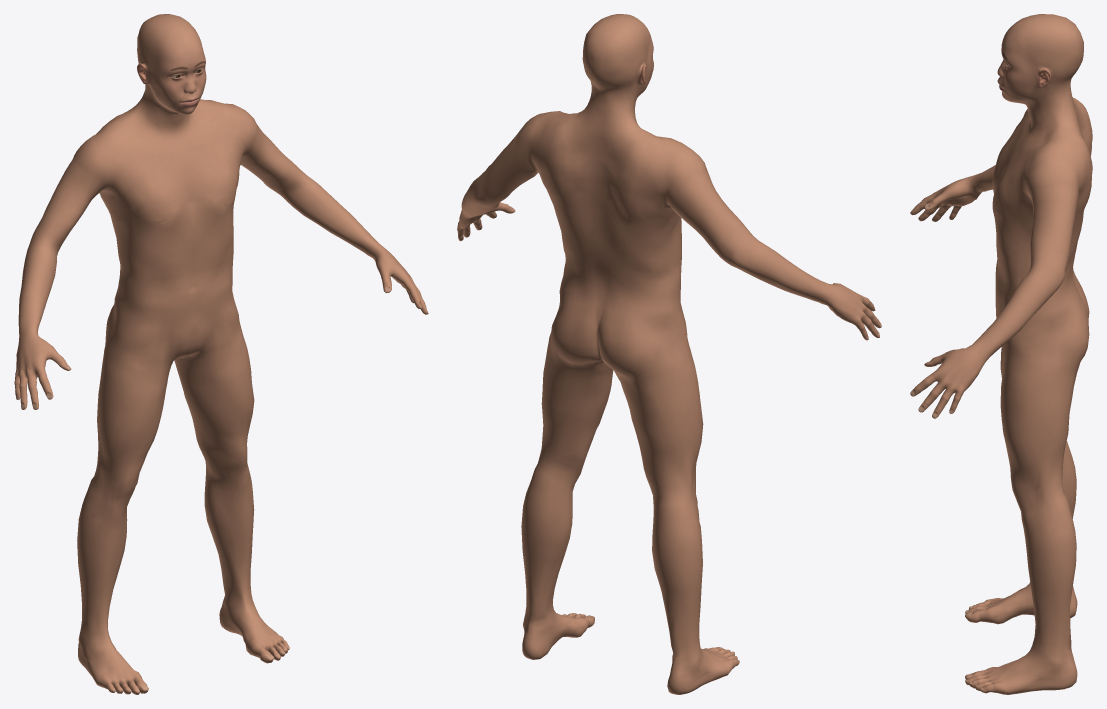
Rendered from male-mobile.glb.
3 views of the same model, side by side, from view 1: azimuth 30°, elevation 25°; view 2: azimuth 150°, elevation 25°; view 3: azimuth 270°, elevation 25° (orthographic). The views are drawn at different scales.
Parts seen in each view (by area): view 1: male-native; view 2: male-native; view 3: male-native.
Part boxes in pixels (x1,y1,x2,y2): male-native: (14,14,428,694); male-native: (457,14,881,694); male-native: (910,14,1092,694).
Bounding box in the file's own units: 1.19 × 1.78 × 0.4635.
2 materials, 2 textured.
